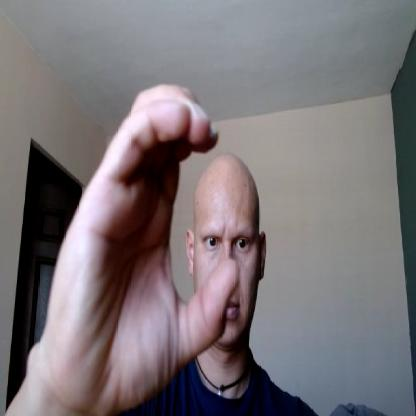C: (46, 85, 242, 408)
